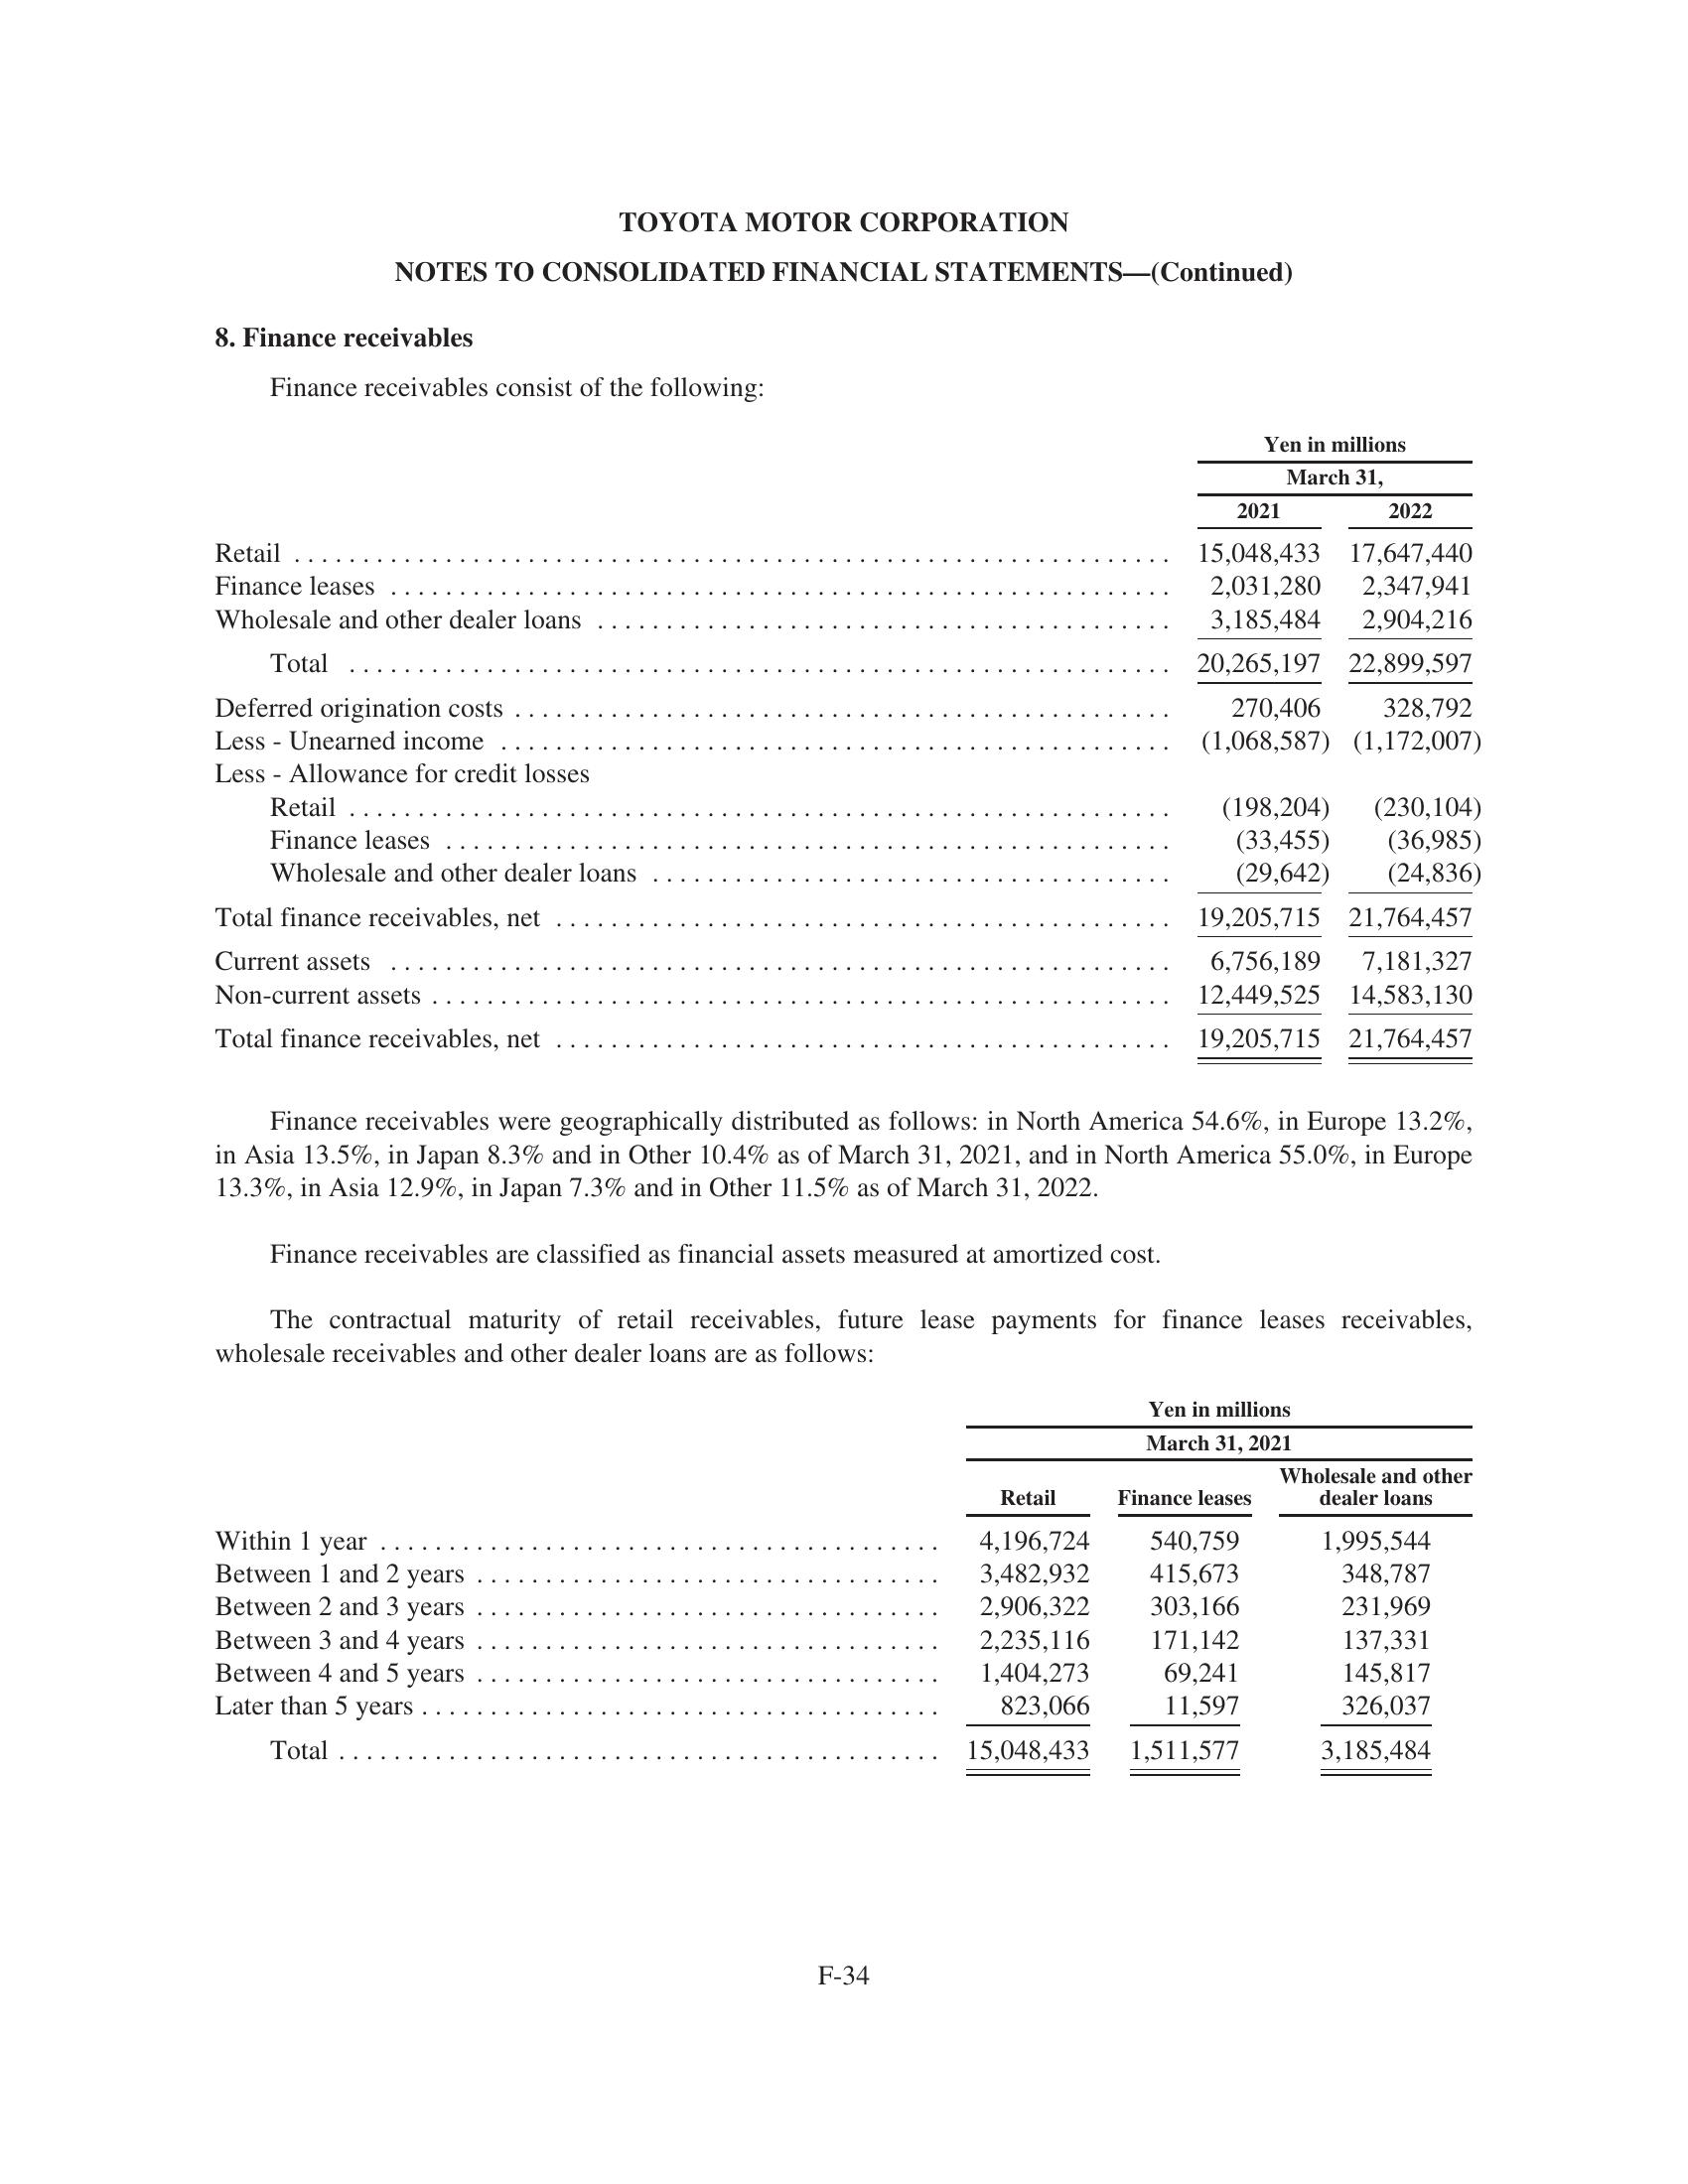Footer: (0, 1959, 1688, 2184)
Header: (0, 0, 1688, 195)
Table: (170, 417, 1528, 1069), (160, 1392, 1491, 1792)
